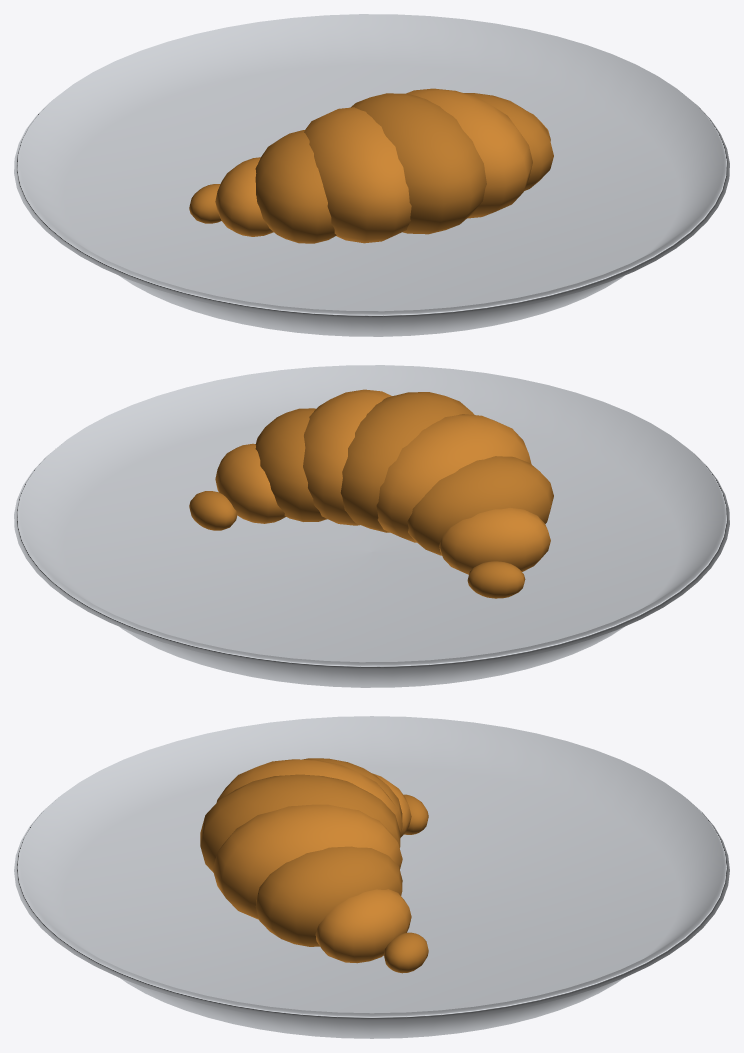
The model's file is alba-croissant-lievito-madre-vuoto.glb.
3 views of the same model, one above another, from view 1: azimuth 30°, elevation 25°; view 2: azimuth 150°, elevation 25°; view 3: azimuth 270°, elevation 25° (orthographic).
Size of the model in its own units: 0.22 by 0.0452 by 0.22.
